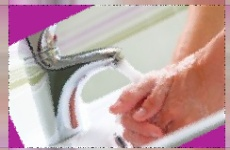washing hand: (40, 0, 229, 149)
